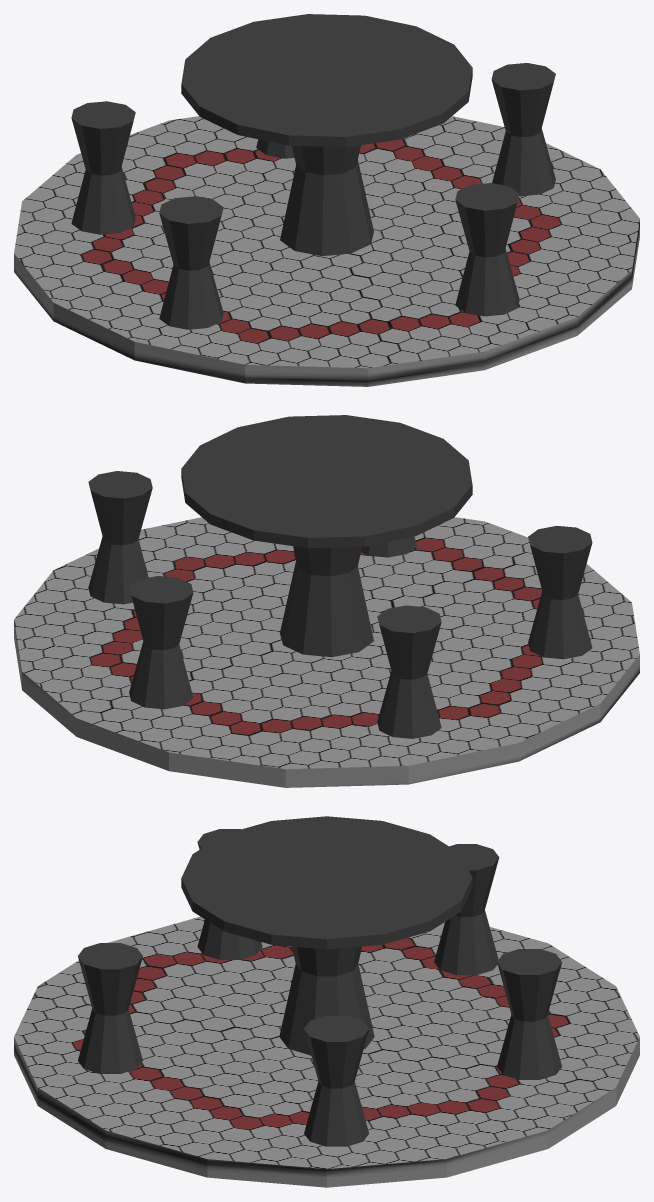
The model's file is Kursi meja 1.fbx.
3 renders of one model, top to bottom at view 1: azimuth 30°, elevation 25°; view 2: azimuth 150°, elevation 25°; view 3: azimuth 270°, elevation 25°, orthographic.
Visible parts, largest first — view 1: Kursi dan meja; view 2: Kursi dan meja; view 3: Kursi dan meja.
Boxes of the visible parts, x1,y1,x2,y2 form: Kursi dan meja: (14,14,639,386); Kursi dan meja: (14,415,639,787); Kursi dan meja: (14,816,639,1187).
Size of the model in its own units: 200 by 62.62 by 200.
